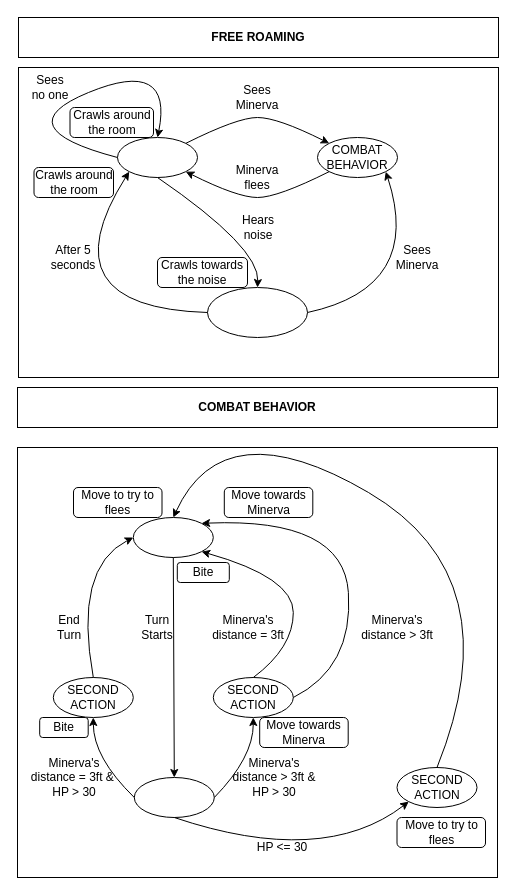
Some shapes in this 516 by 895 pixel diagram are drawn without their labels. Each missing label, with the centre of its shape:
AGGRESSIVE: the point at 257,312
FIRST ACTION: the point at 173,797
IDLE: the point at 157,157
WAIT TURN: the point at 172,537
